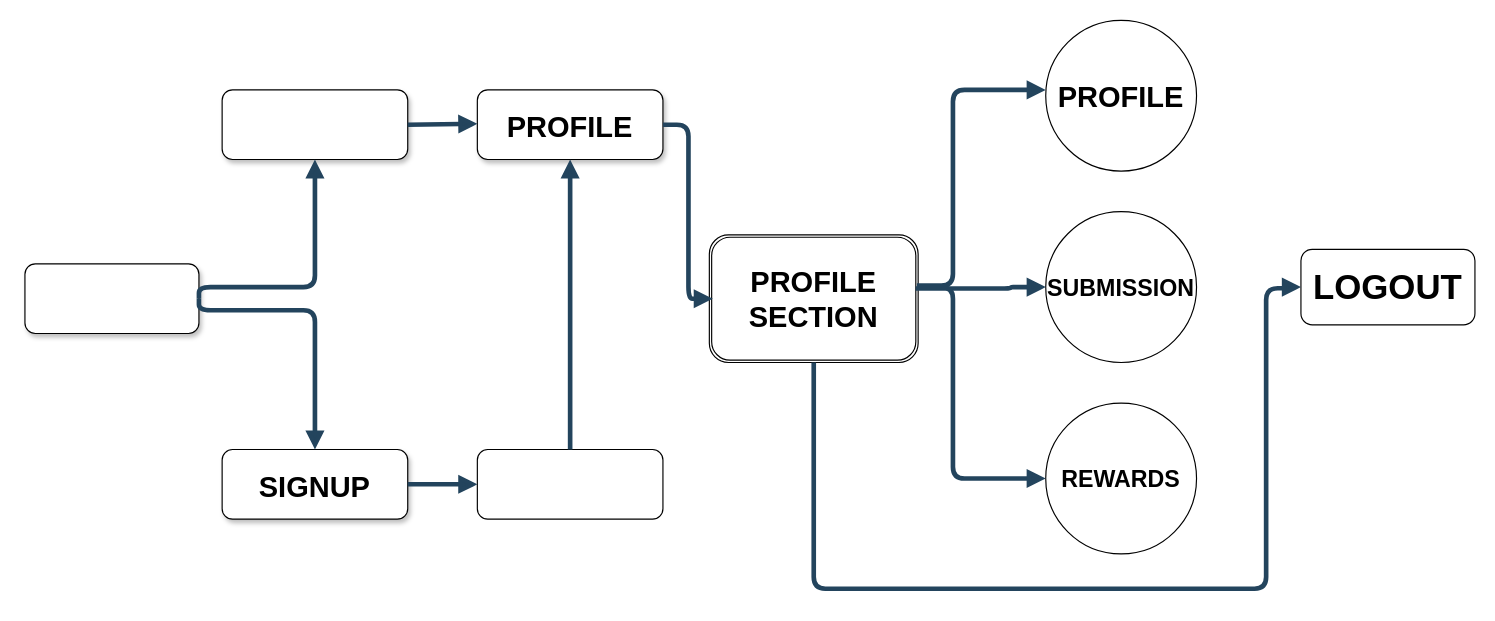
Some shapes in this 1495 by 621 pixel diagram are drawn without their labels. The shapes that lost their labels are listed below. From the top down, each one's centre as x and y in pixels, then its label:
At pixel 315 126: "LOGIN".
At pixel 112 300: "USER".
At pixel 569 483: "NEW USER".
